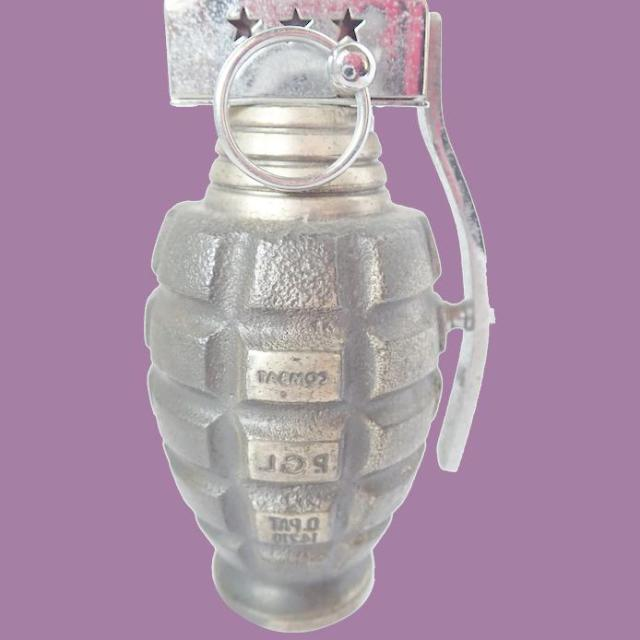grenade: (146, 1, 492, 634)
